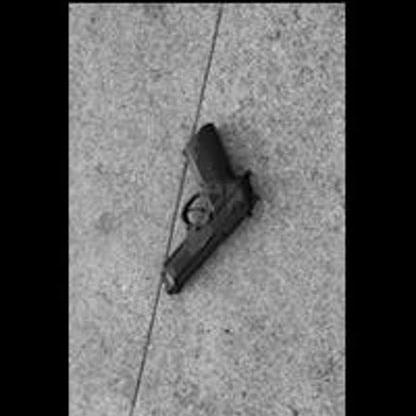weapon: (156, 117, 263, 300)
